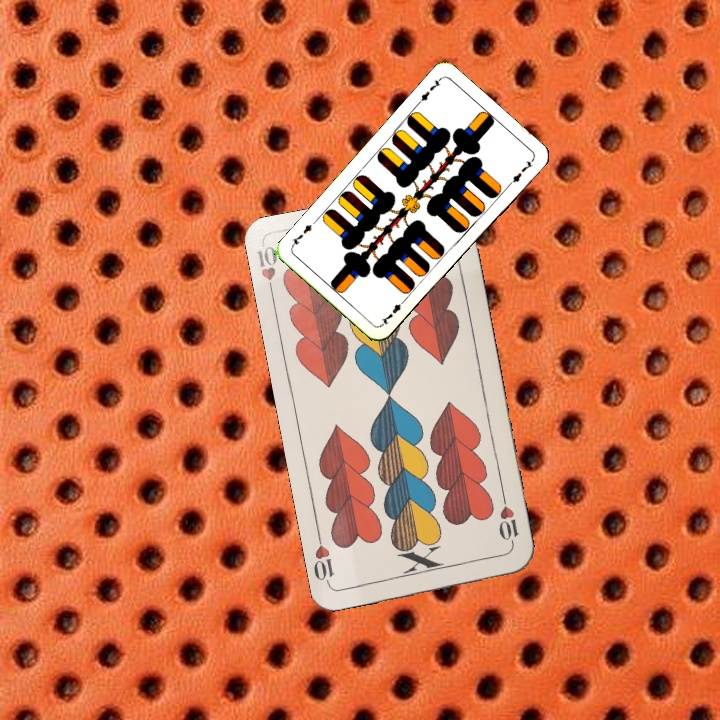E7: (377, 294, 408, 328), (413, 74, 444, 107)
H10: (494, 492, 521, 551), (253, 242, 280, 301)
